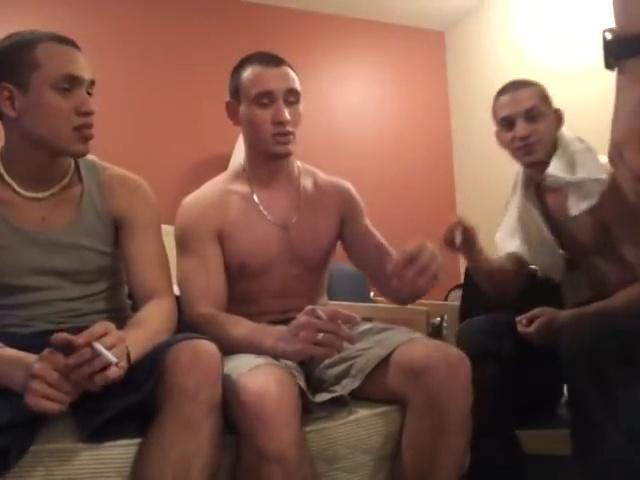cigarette: (88, 339, 131, 372)
